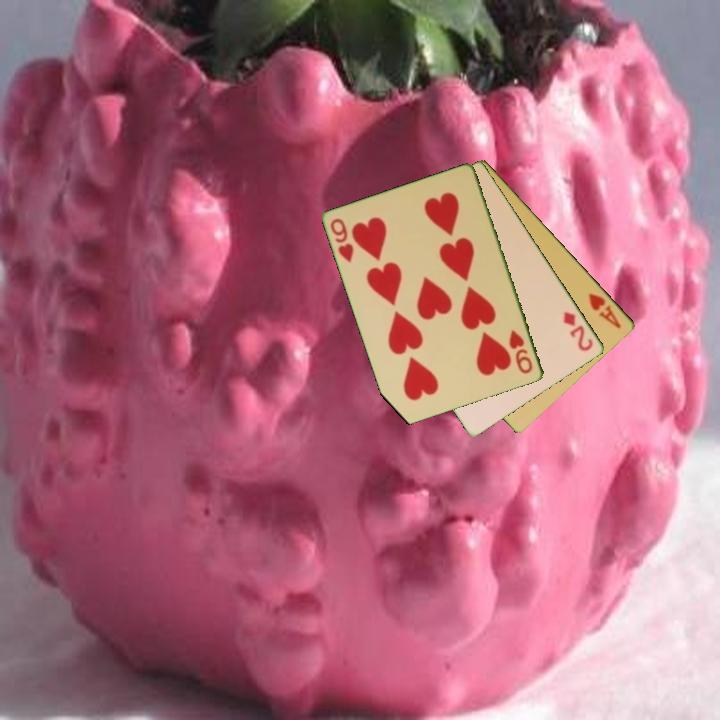2d: (560, 308, 597, 354)
9h: (506, 326, 536, 377), (327, 215, 357, 266)
Ah: (585, 289, 624, 332)
